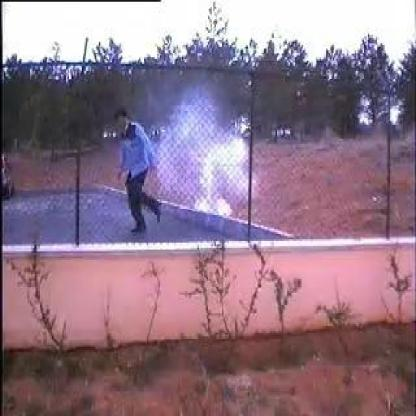-: (155, 92, 248, 218)
